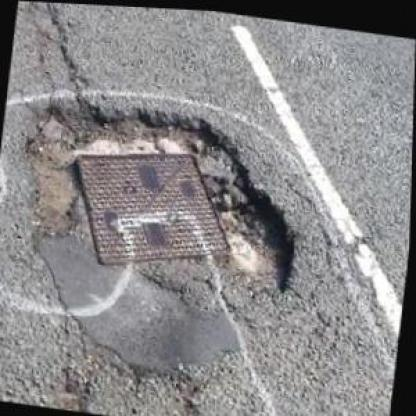pothole: (10, 85, 313, 294)
